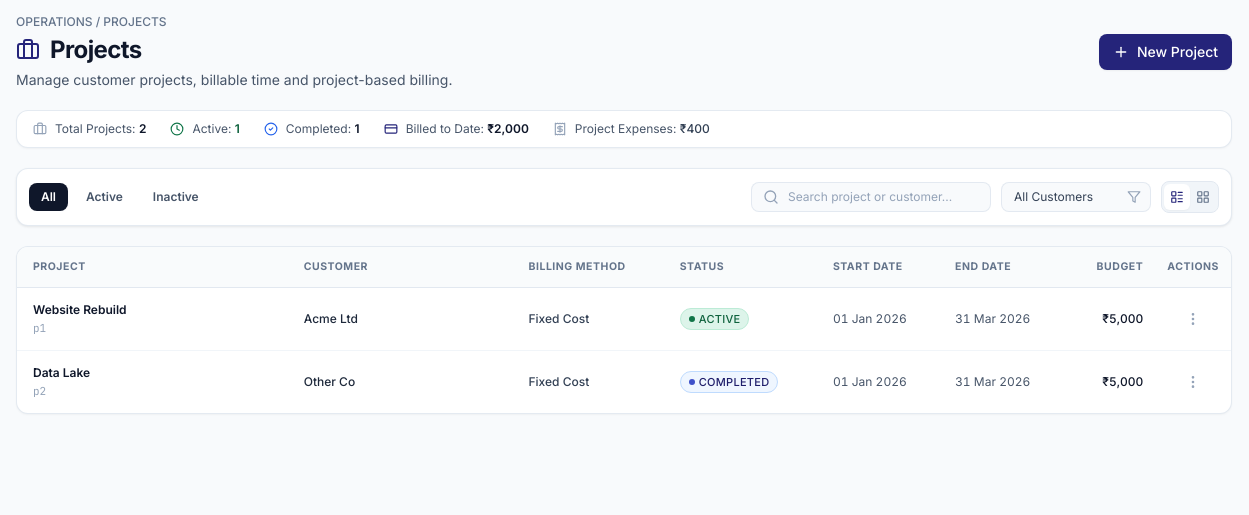
<ProjectsPage /> characterisation › searches on the client, by name or customer, without new requests
Expected: the text "Website Rebuild" is shown, [33,302,127,317]
In the field with placeholder "Search project or customer...": (871, 197) [751,182,991,212], type "other co"
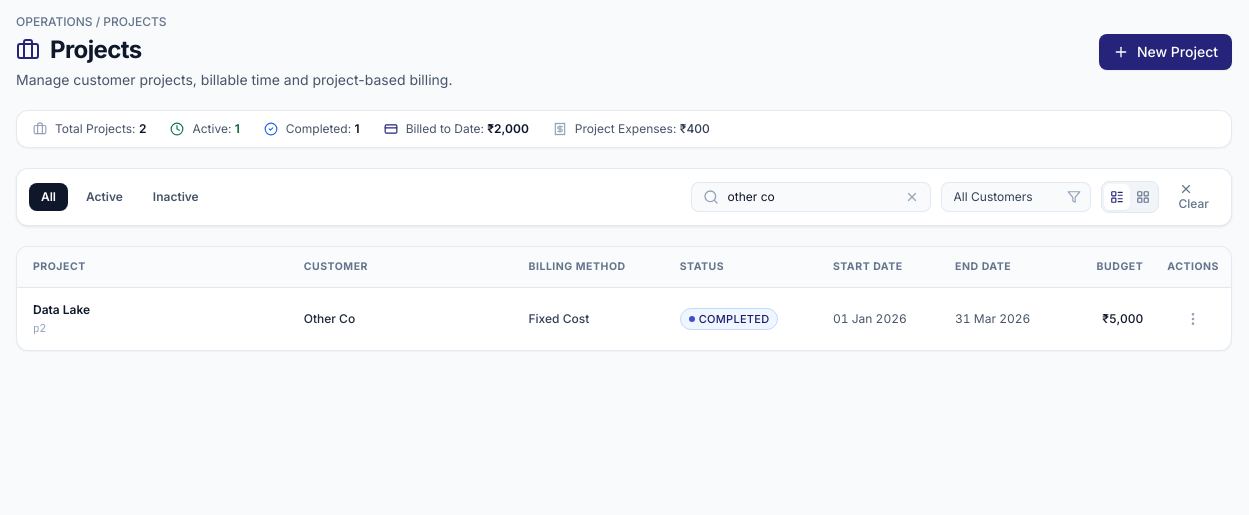
Expected: the text "Data Lake" is shown, [33,302,90,317]
Now the text "Website Rebuild" is gone
Replace the text in the field with placeholder "Search project or customer..." with "no match at all": (810, 197) [690,182,930,212]
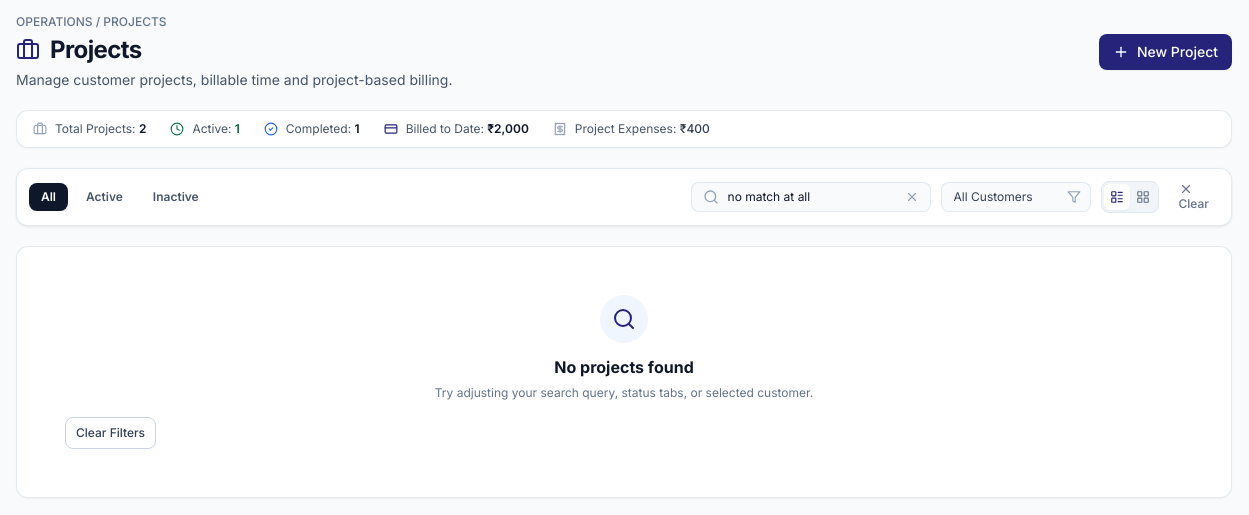
Now the text "Data Lake" is gone
Now the text "Clear Filters" is shown, box [76,425,145,441]
